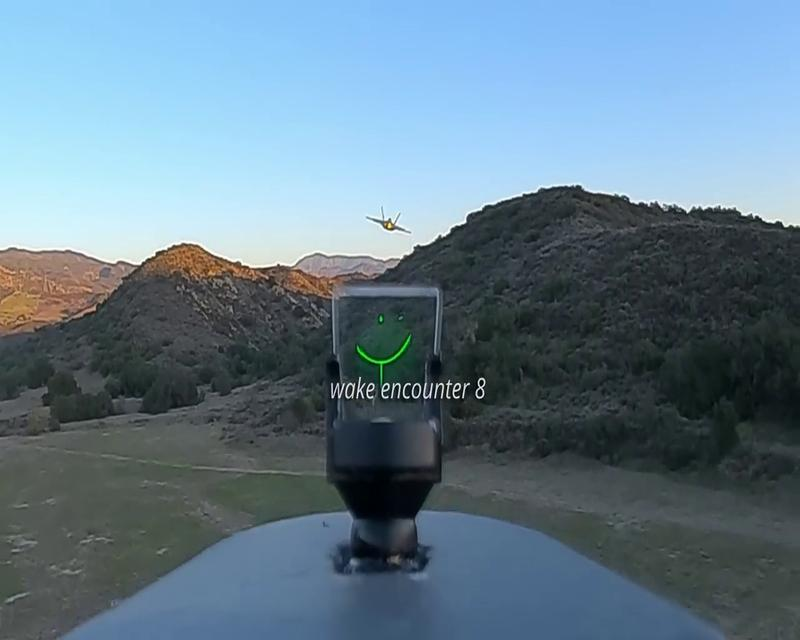UAV: (364, 207, 411, 234)
